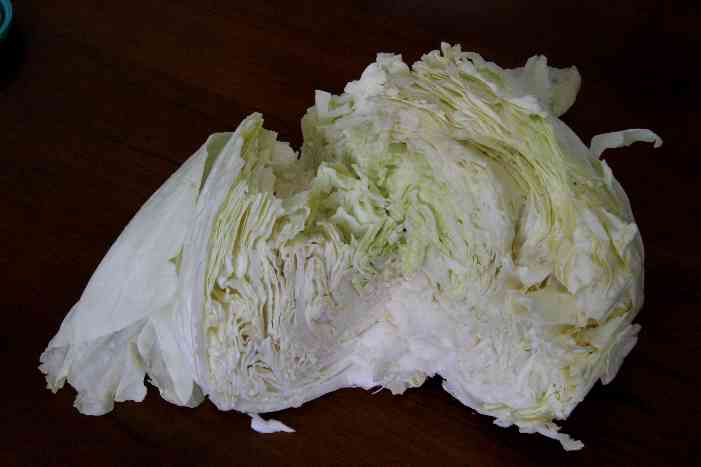cabbage: (37, 40, 655, 434)
